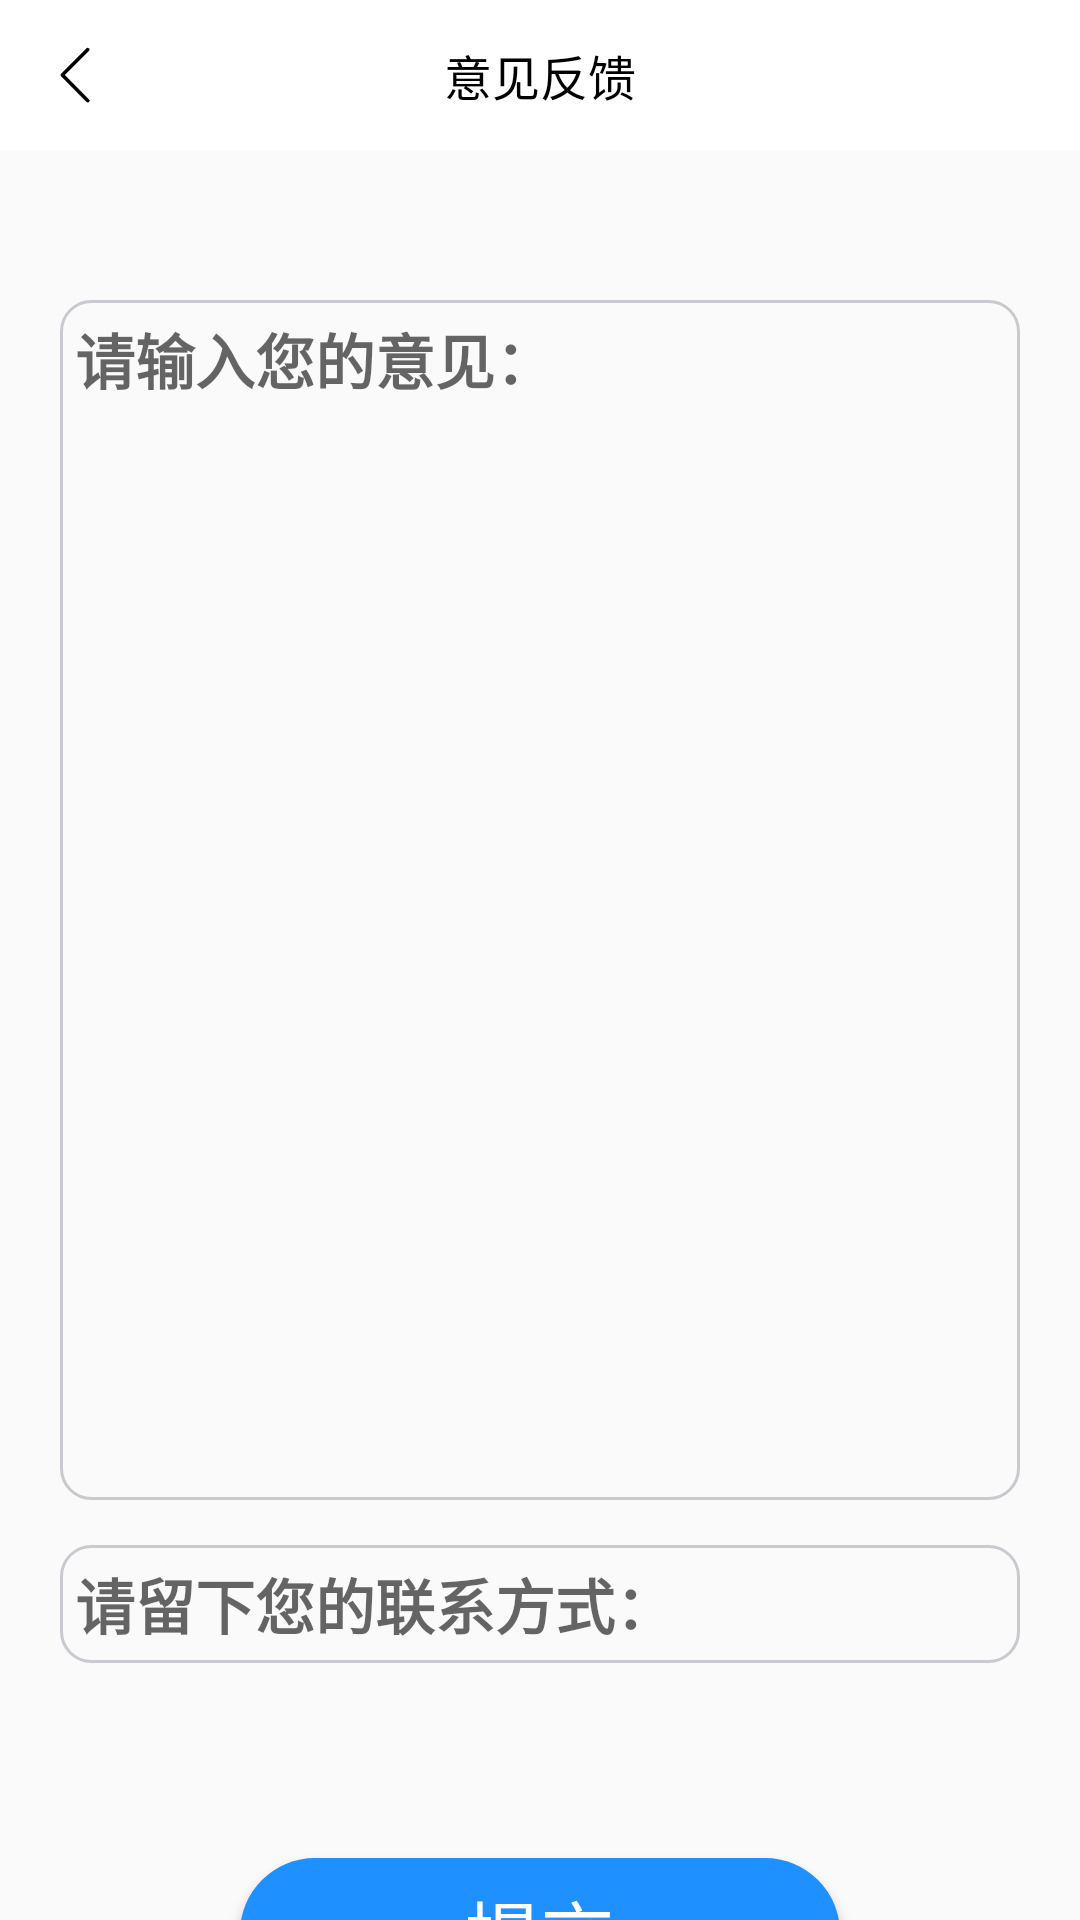

Icon click points for this 1080×1920 phone screenshot, format (x=x, y=y):
fanhui: (x=75, y=75)
